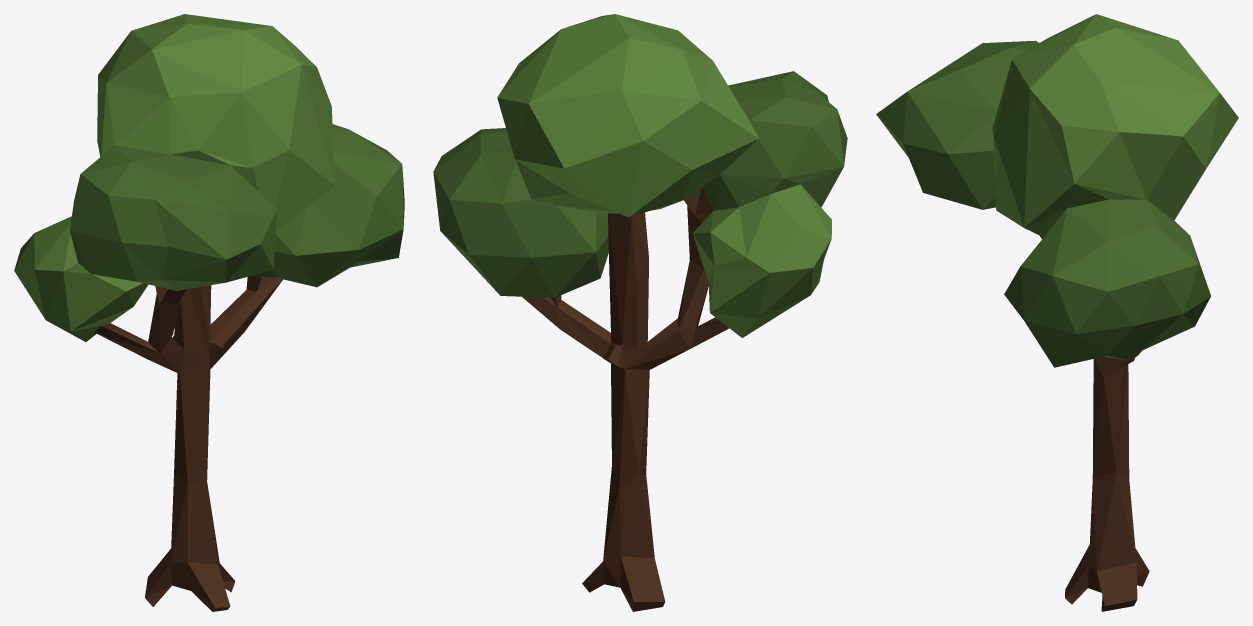
File: Tree_01.fbx
3 views of the same model, side by side, from view 1: azimuth 30°, elevation 25°; view 2: azimuth 150°, elevation 25°; view 3: azimuth 270°, elevation 25° (orthographic). The views are drawn at different scales.
Visible parts, largest first — view 1: Cylinder; view 2: Cylinder; view 3: Cylinder.
Part boxes in pixels (x1=…): Cylinder: x1=14, y1=14, x2=404, y2=611; Cylinder: x1=433, y1=14, x2=847, y2=611; Cylinder: x1=876, y1=14, x2=1238, y2=611.
Bounding box in the file's own units: 420 × 610 × 352.
